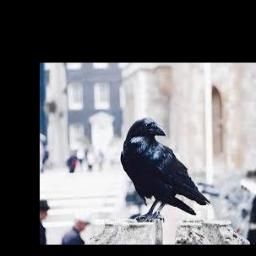Crow: (120, 117, 210, 222)
